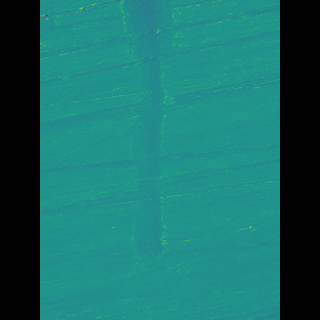Loch: (129, 0, 174, 265)
